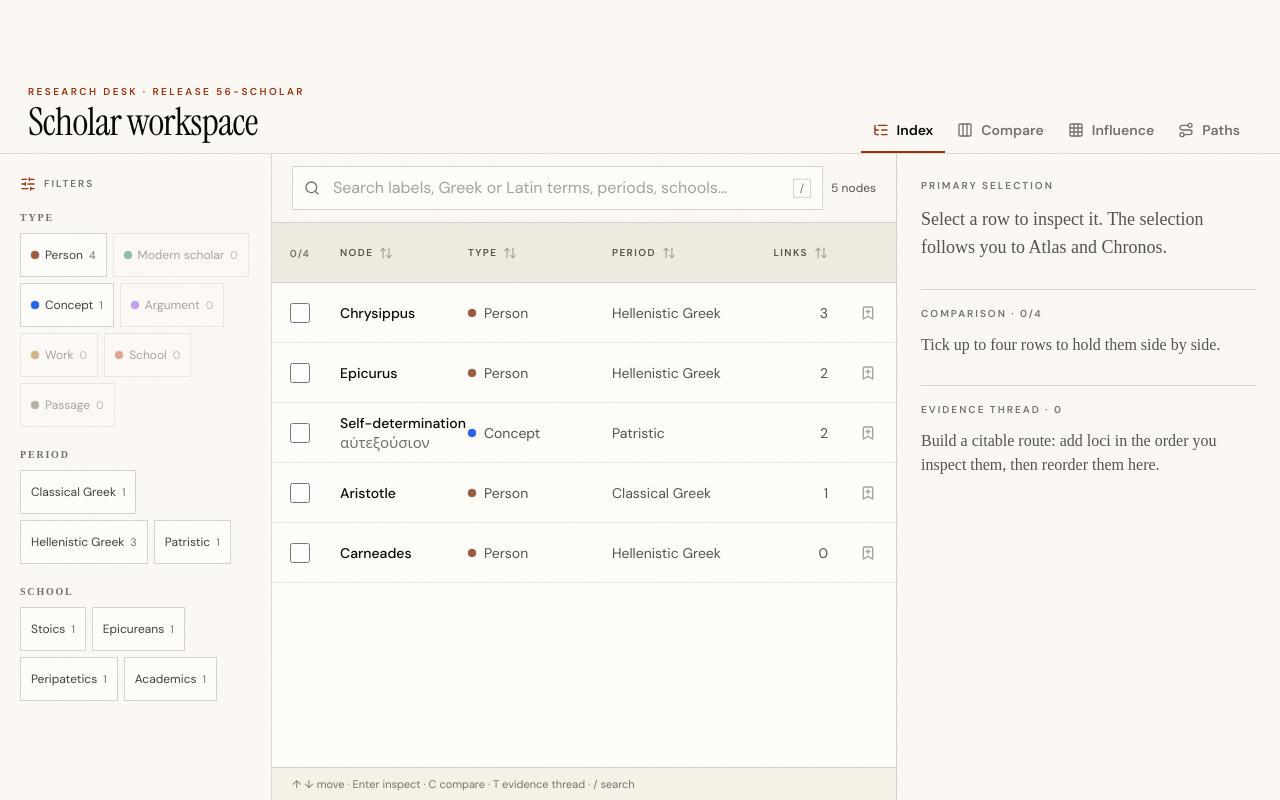
Test: ScholarWorkspace › finds a path between two nodes chosen from suggestions
Expected: the table named "Knowledge-graph nodes" is shown, left=272, top=223, right=896, bottom=583
Click the tab "Paths": (1209, 131) left=1166, top=109, right=1252, bottom=153
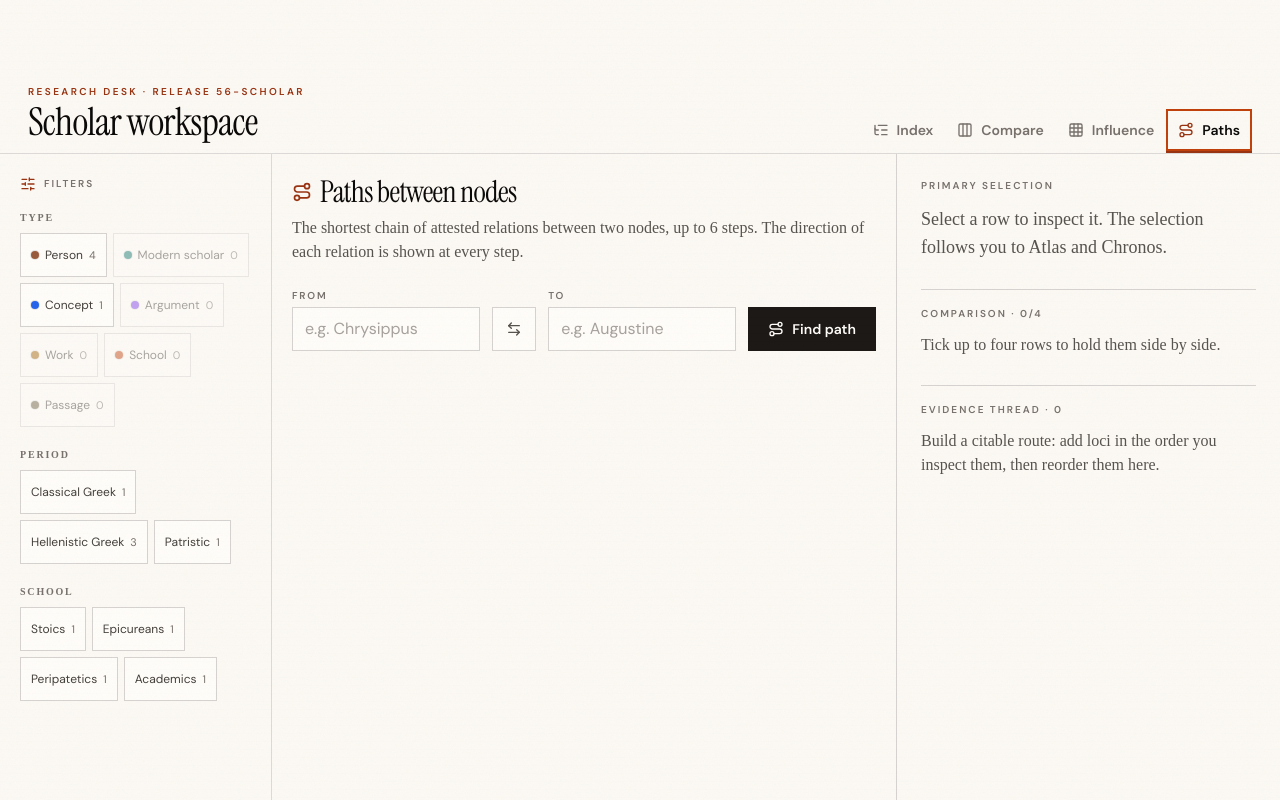
In the dropdown labelled "From": (386, 329) left=292, top=307, right=480, bottom=351, type "Aris"
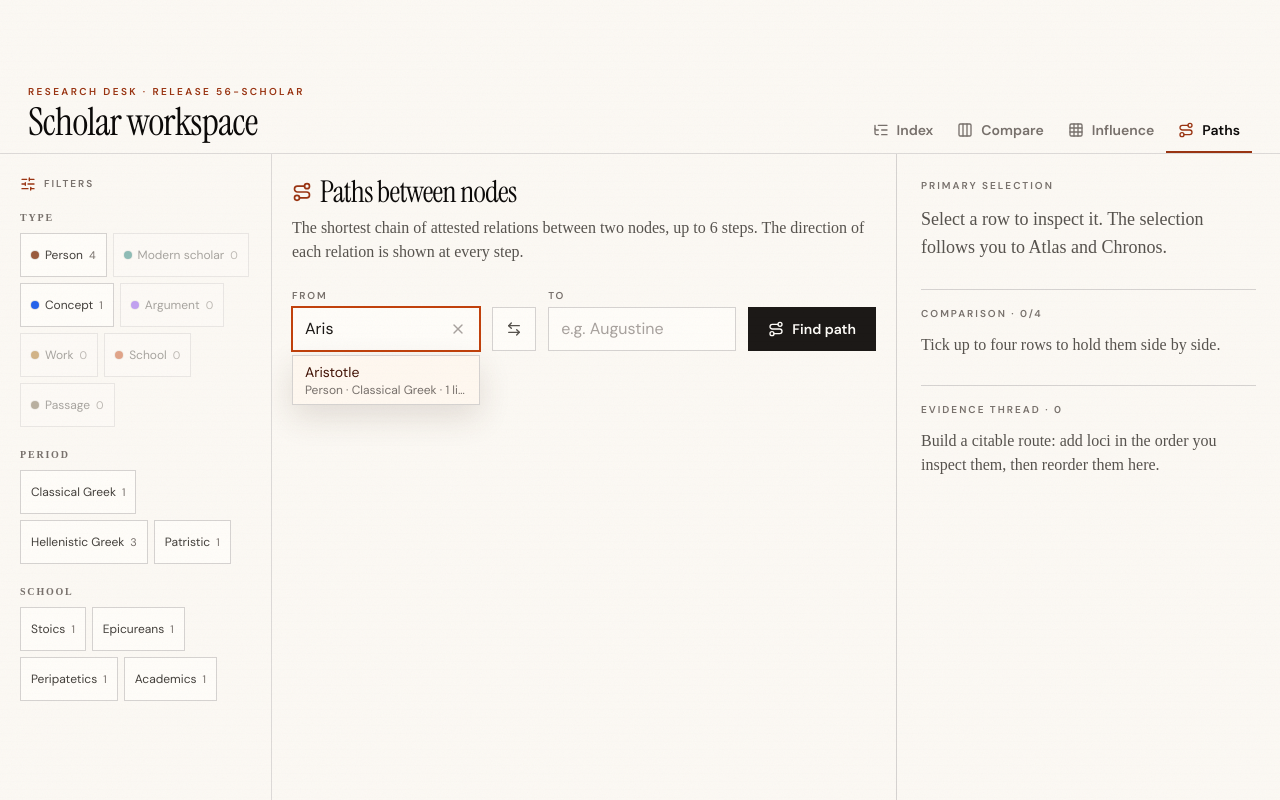
Click the option "Aristotle Person · Classical Greek · 1 link": (386, 380) left=293, top=356, right=479, bottom=404
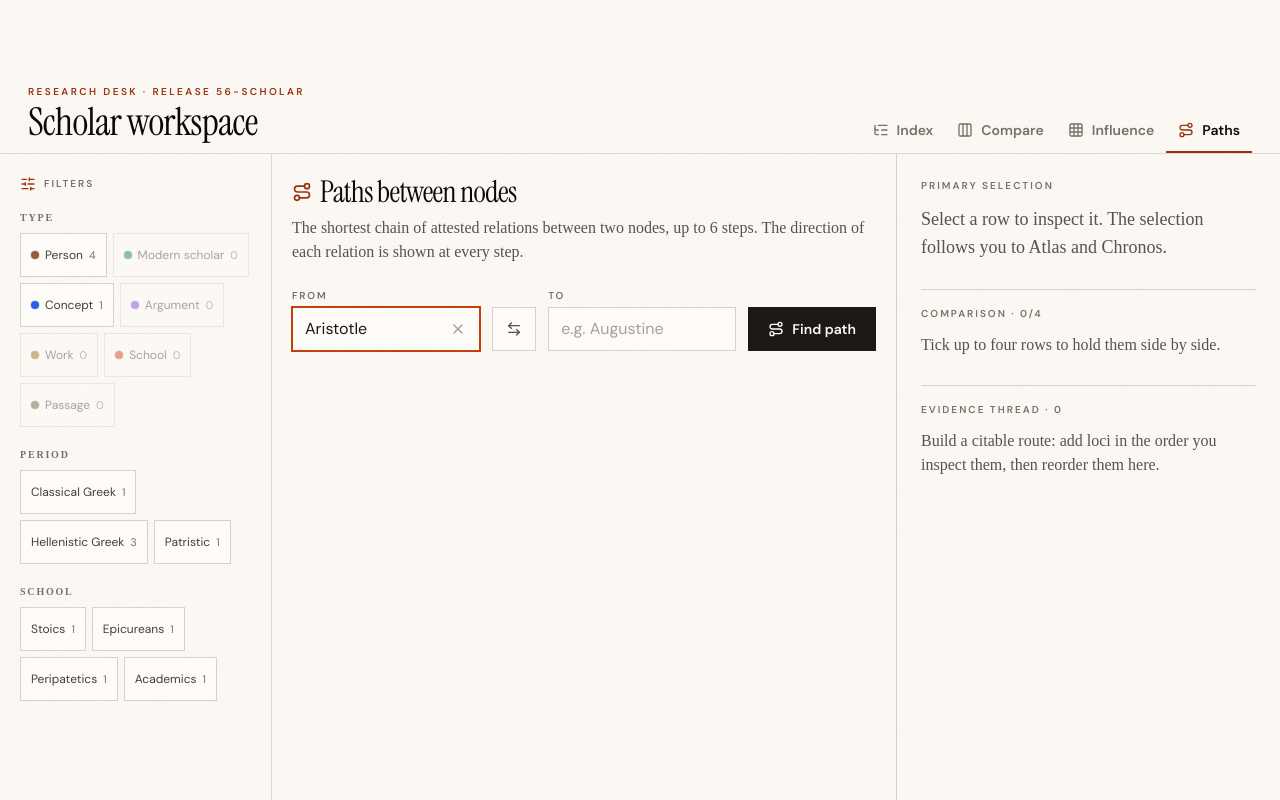
In the dropdown labelled "To": (642, 329) left=548, top=307, right=736, bottom=351, type "Epic"
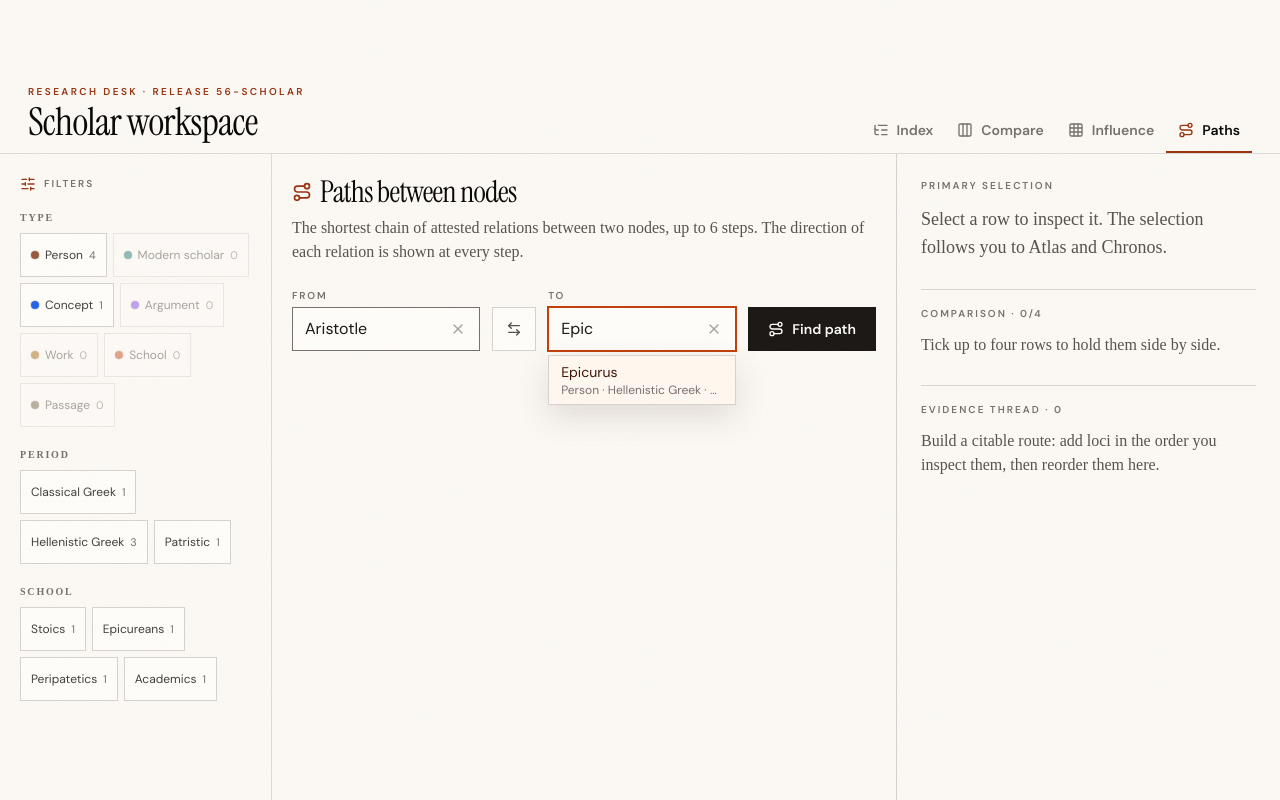
Click the option "Epicurus Person · Hellenistic Greek · 2 links": (642, 380) left=549, top=356, right=735, bottom=404
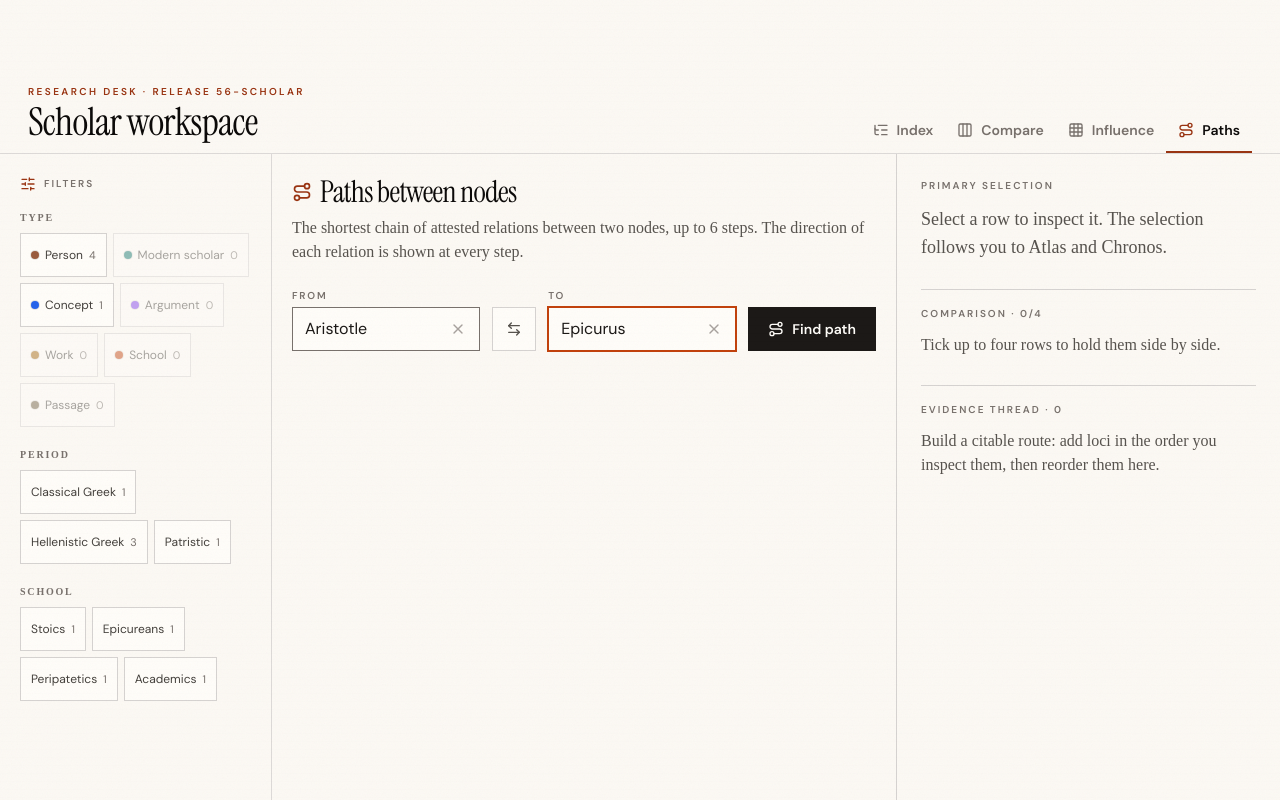
Click the button "Find path": (812, 329) left=748, top=307, right=876, bottom=351
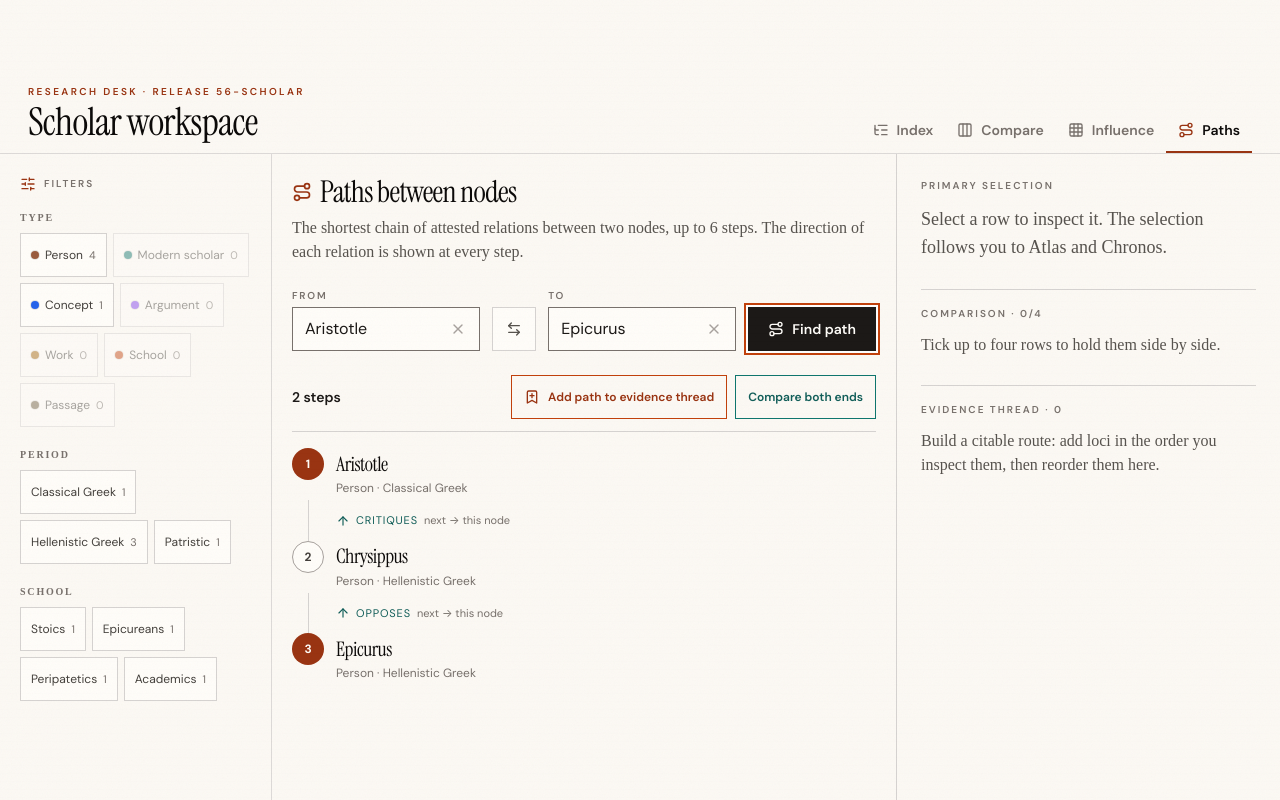
Expected: the heading "2 steps" is shown, left=292, top=387, right=341, bottom=407
